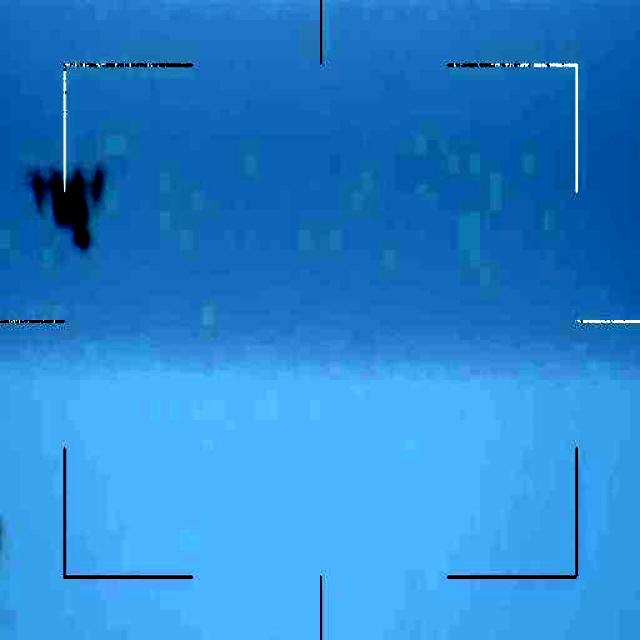bird: (30, 155, 112, 248)
